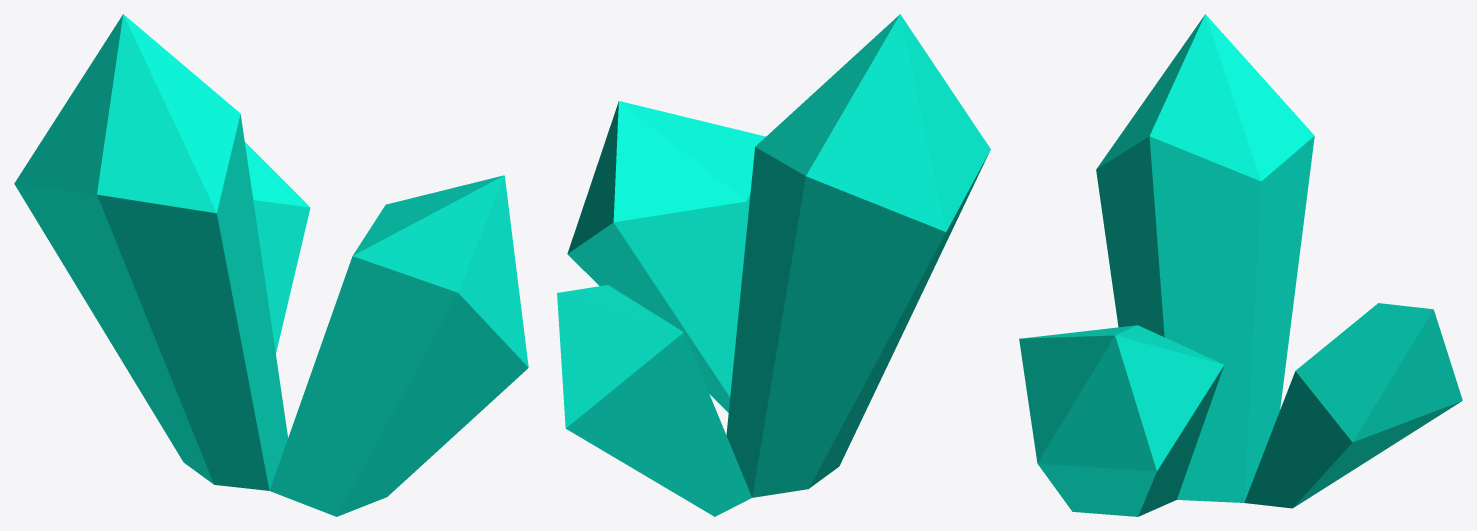
File: Crystal-B05.fbx
3 views of the same model, side by side, from view 1: azimuth 30°, elevation 25°; view 2: azimuth 150°, elevation 25°; view 3: azimuth 270°, elevation 25° (orthographic). The views are drawn at different scales.
Parts seen in each view (by area): view 1: Crystal-B05; view 2: Crystal-B05; view 3: Crystal-B05.
Boxes of the visible parts, box(x1,y1,x2,y2) form: Crystal-B05: box(14, 14, 528, 516); Crystal-B05: box(557, 14, 990, 516); Crystal-B05: box(1019, 14, 1462, 516).
Size of the model in its own units: 76.35 by 80.94 by 76.69.
